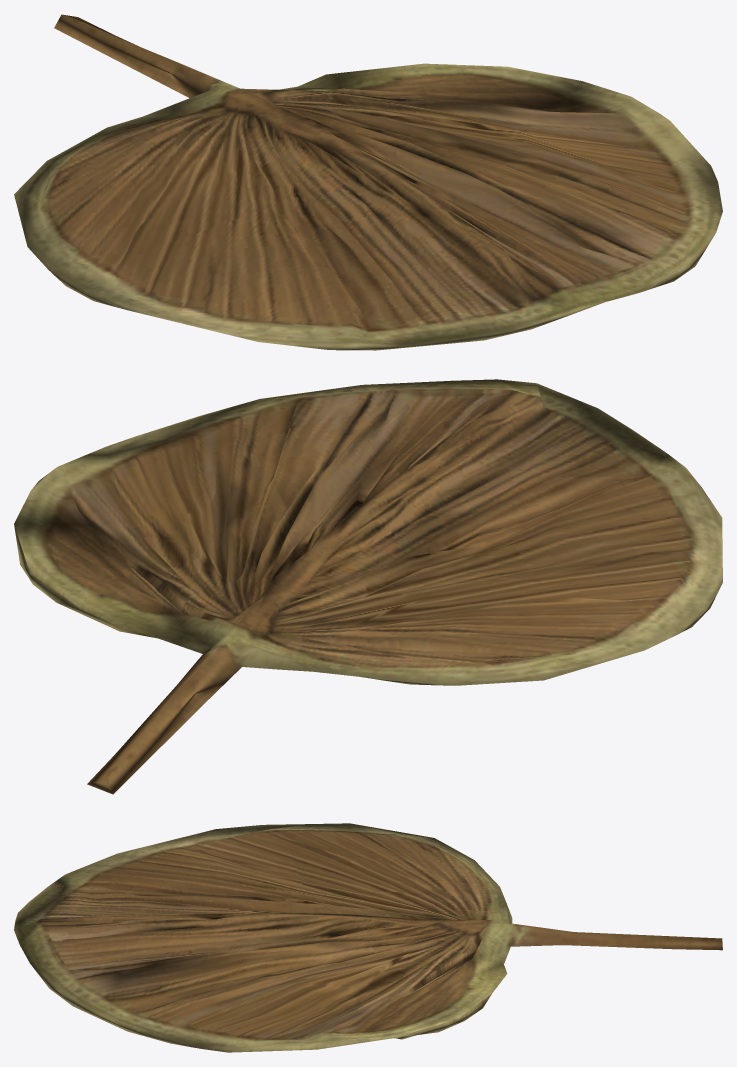
The model's file is ref_fan.glb.
The picture shows the model from 3 angles, top to bottom: view 1: azimuth 30°, elevation 25°; view 2: azimuth 150°, elevation 25°; view 3: azimuth 270°, elevation 25°; orthographic projection. The views are drawn at different scales.
Visible parts, largest first — view 1: ref_fan_part0; view 2: ref_fan_part0; view 3: ref_fan_part0.
Part boxes in pixels (x1,y1,x2,y2): ref_fan_part0: (14, 14, 722, 350); ref_fan_part0: (14, 379, 722, 794); ref_fan_part0: (14, 823, 722, 1052).
Bounding box in the file's own units: 0.7606 × 0.0711 × 1.
Materials: 1 (1 with a texture image).
